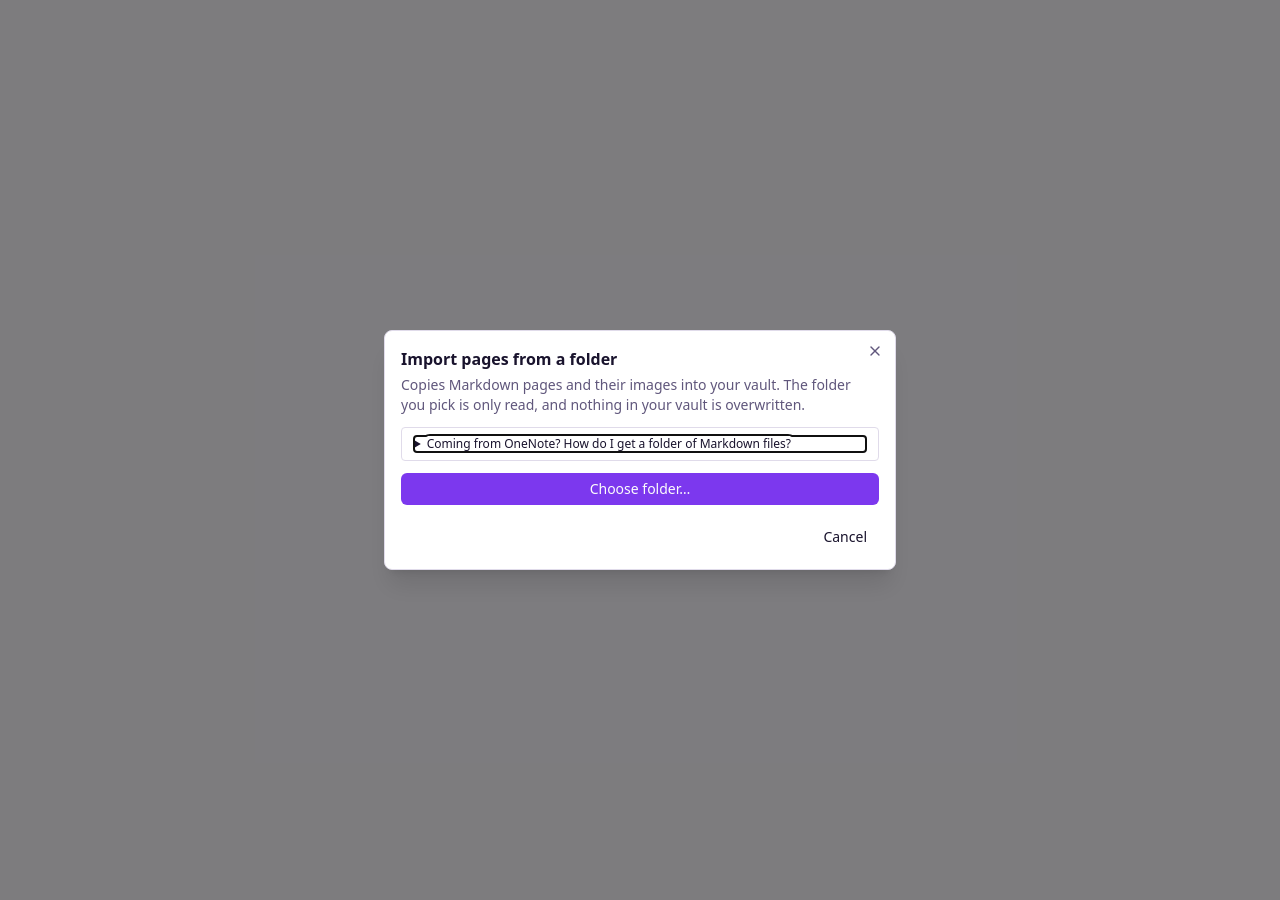
Scenario: ImportDialog › shows a scan error and lets the user choose again
The width and height of the screenshot is (1280, 900).
What coordinates should you click on to do the following:
click the button "Choose folder…"
I would click on:
 (640, 489)
Its box is left=401, top=473, right=879, bottom=505.
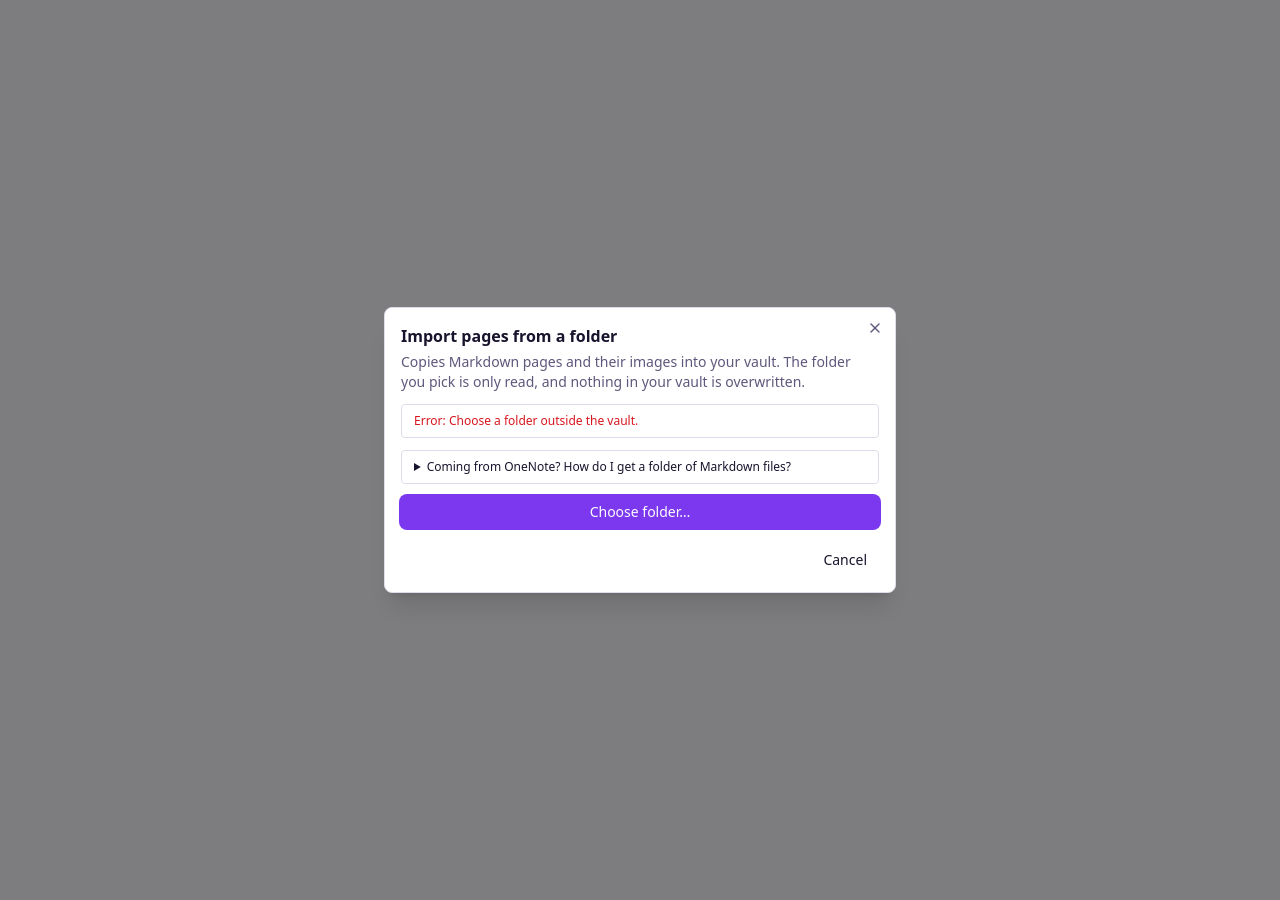
Expected: the button "Choose folder…" is enabled, left=401, top=496, right=879, bottom=528
Expected: the message shows "outside the vault", left=414, top=412, right=638, bottom=429
